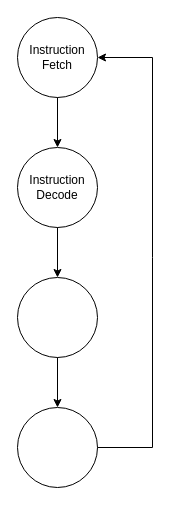
Some shapes in this 178 by 505 pixel diagram are drawn without their labels. The shapes that lost their labels are listed below. From the top down, each one's box as (x1, y1, x2, y2) in pixels, then its label:
(16, 276, 98, 358): Execute
(16, 406, 98, 488): Memory/ Writeback
